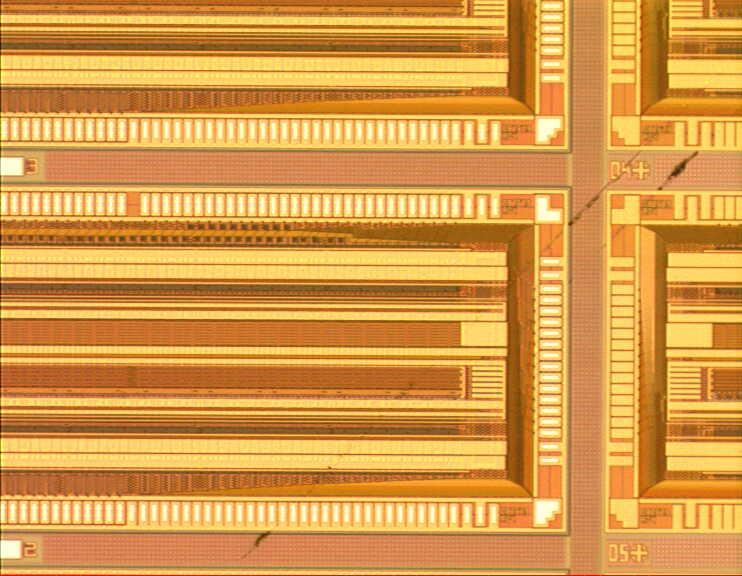SCRATCH: (237, 117, 704, 564)
